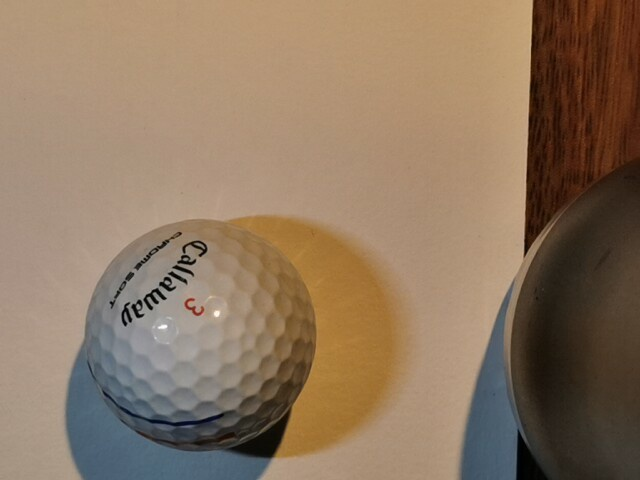Ball: (84, 218, 317, 451)
Callaway: (121, 240, 208, 327)
